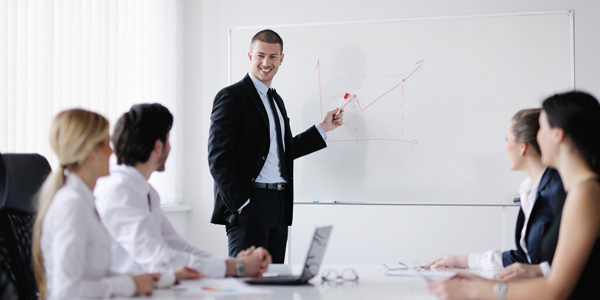Person: (211, 34, 345, 250), (43, 125, 129, 298), (538, 95, 600, 300), (118, 102, 188, 277)
